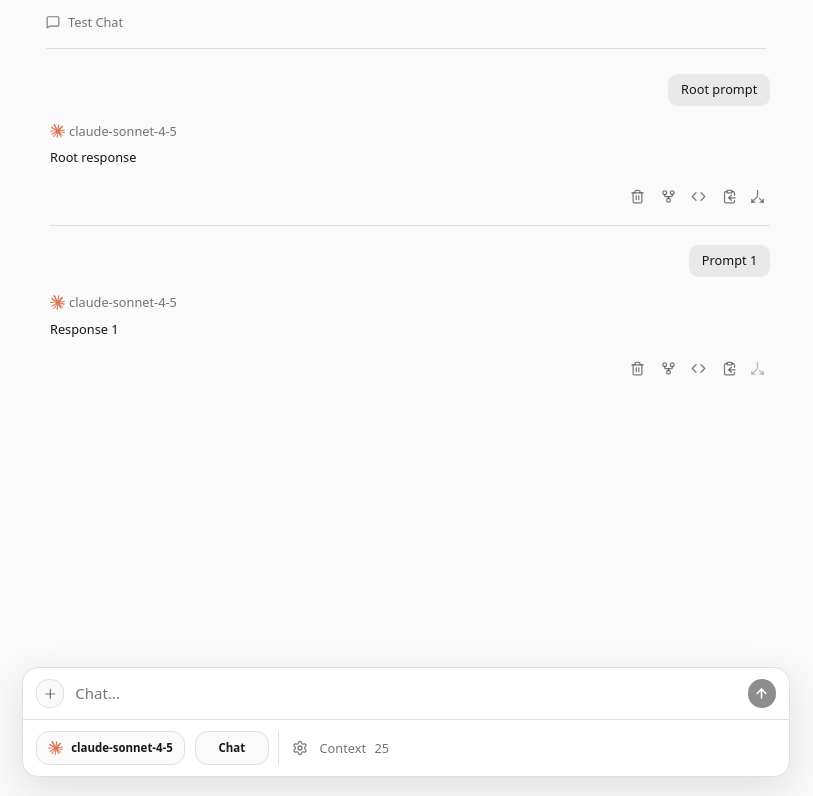
Test: ChatView › submitting messages › submitting a message adds it to the chat
Step 1. Type "New message" into the text box → (406, 694), box [72, 681, 740, 706]
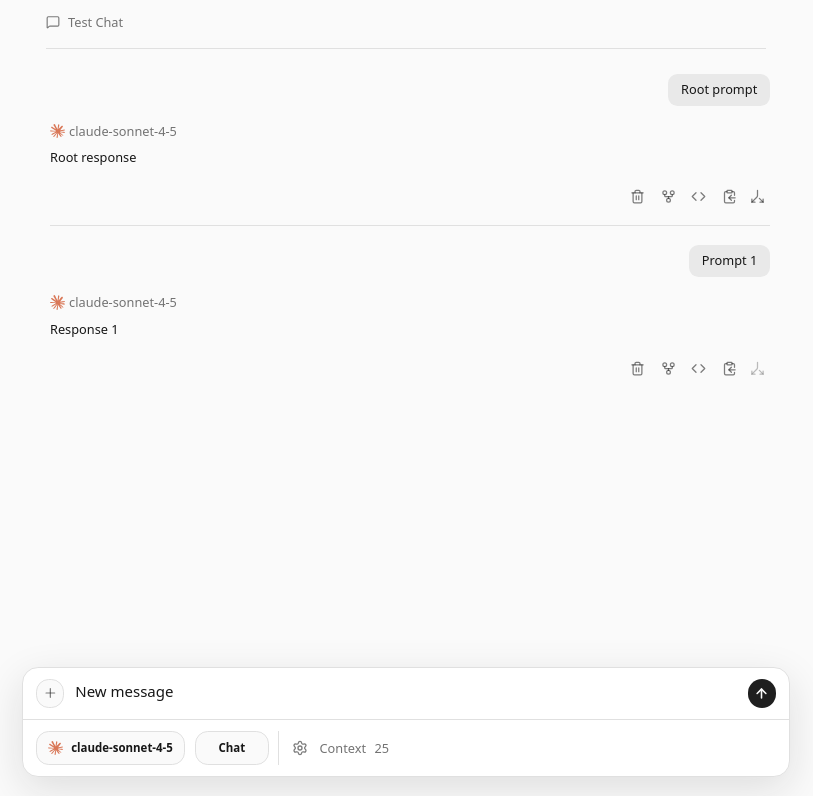
Step 2. Click the button named "Send message" → (762, 693), box [748, 679, 776, 708]
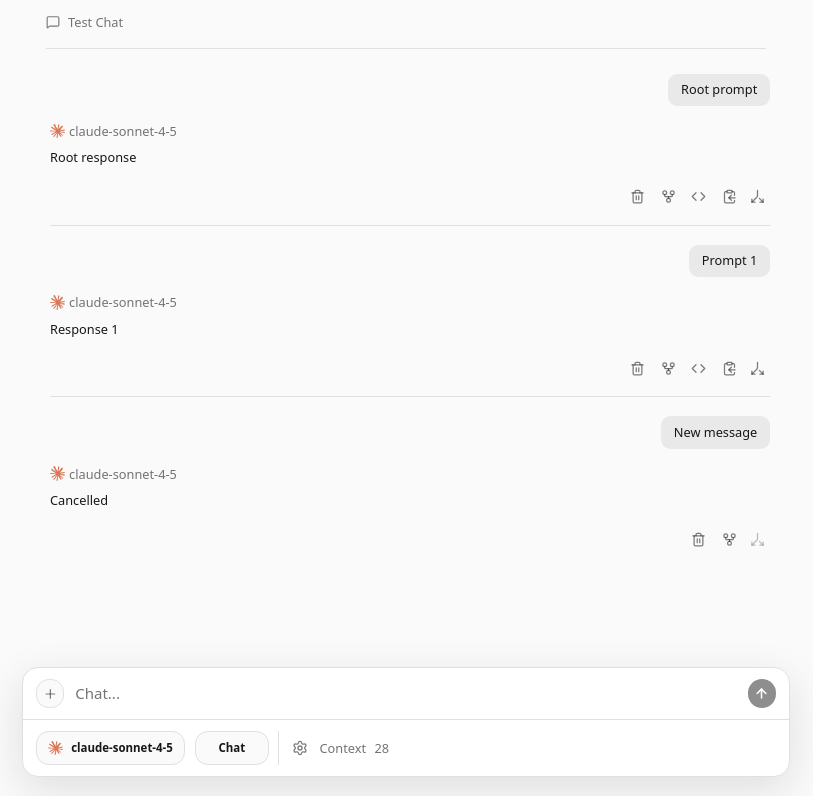
expect the text "New message" is shown: met, box [661, 416, 770, 449]
